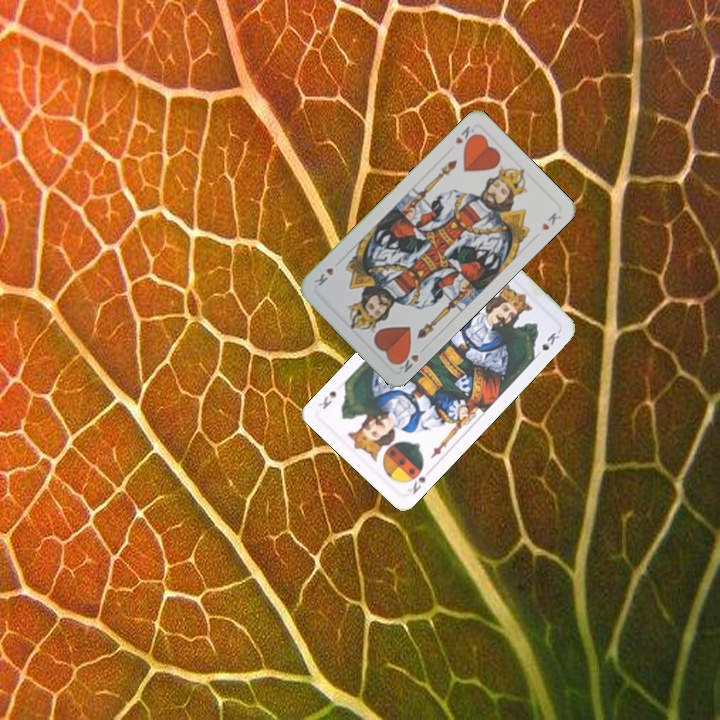HK: (391, 346, 421, 375), (451, 122, 479, 150)
SK: (403, 462, 428, 497)
